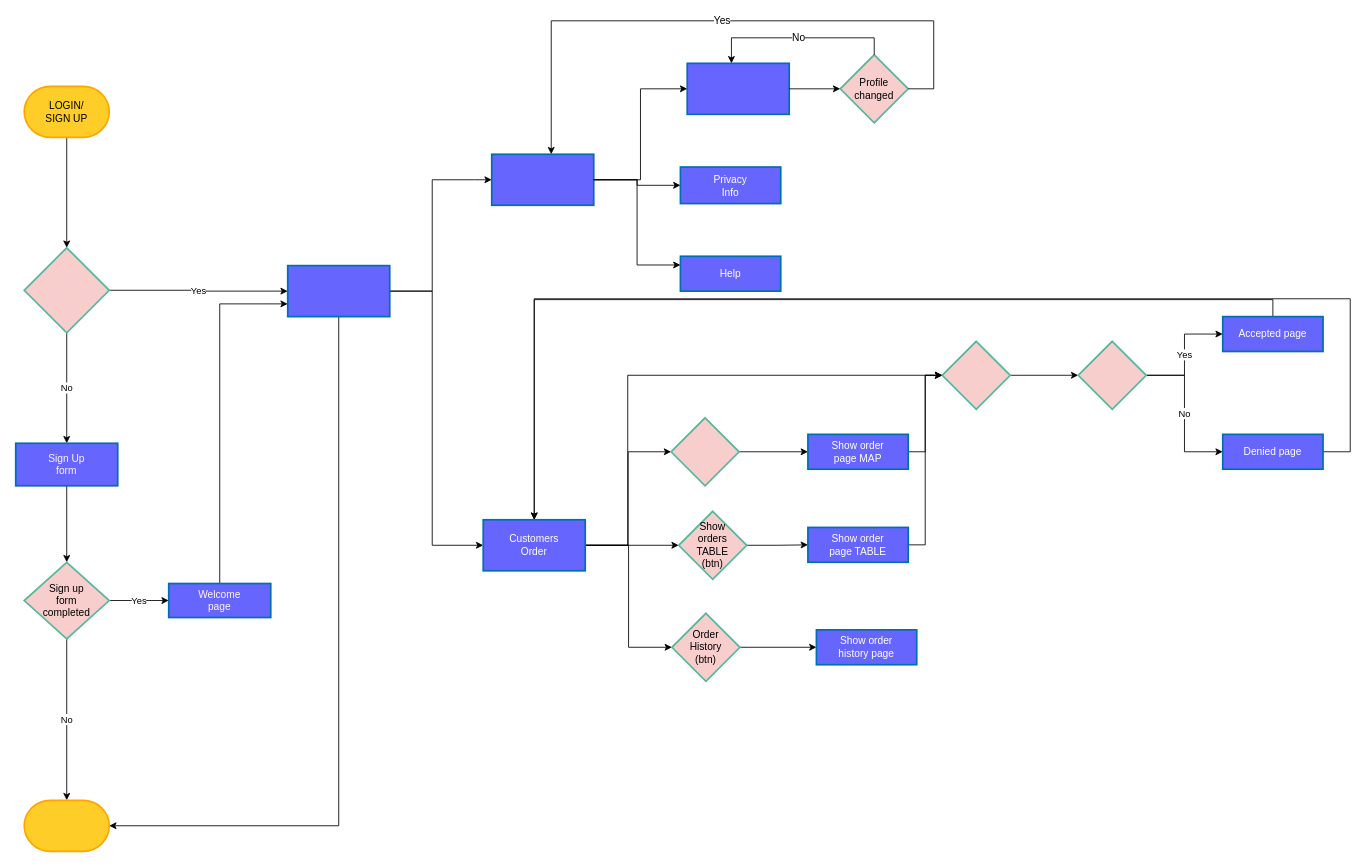
This 1372x867 diagram has some shape labels left out. The box of each missing label's shape, as (x1, y1, x2, y2) in pixels:
Ask permission (btn): (941, 340, 1011, 410)
Change Profile - phone no - location - name .. etc: (686, 62, 790, 115)
is permission accepted: (1077, 340, 1147, 410)
LOG OUT/ EXIT: (23, 799, 110, 852)
Main Page: (286, 264, 390, 317)
Settings: (490, 153, 594, 206)
Show orders MAP (btn): (670, 416, 740, 486)
Signed Up: (23, 246, 110, 333)
